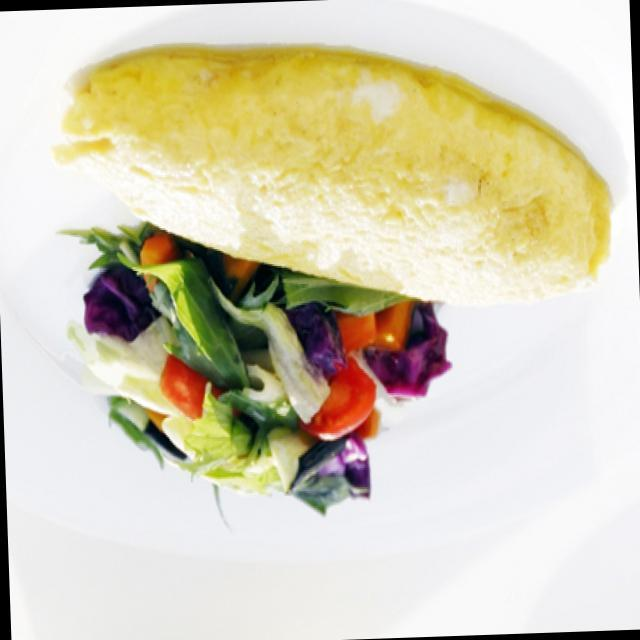Omelet: (51, 22, 616, 321), (62, 228, 436, 532)
